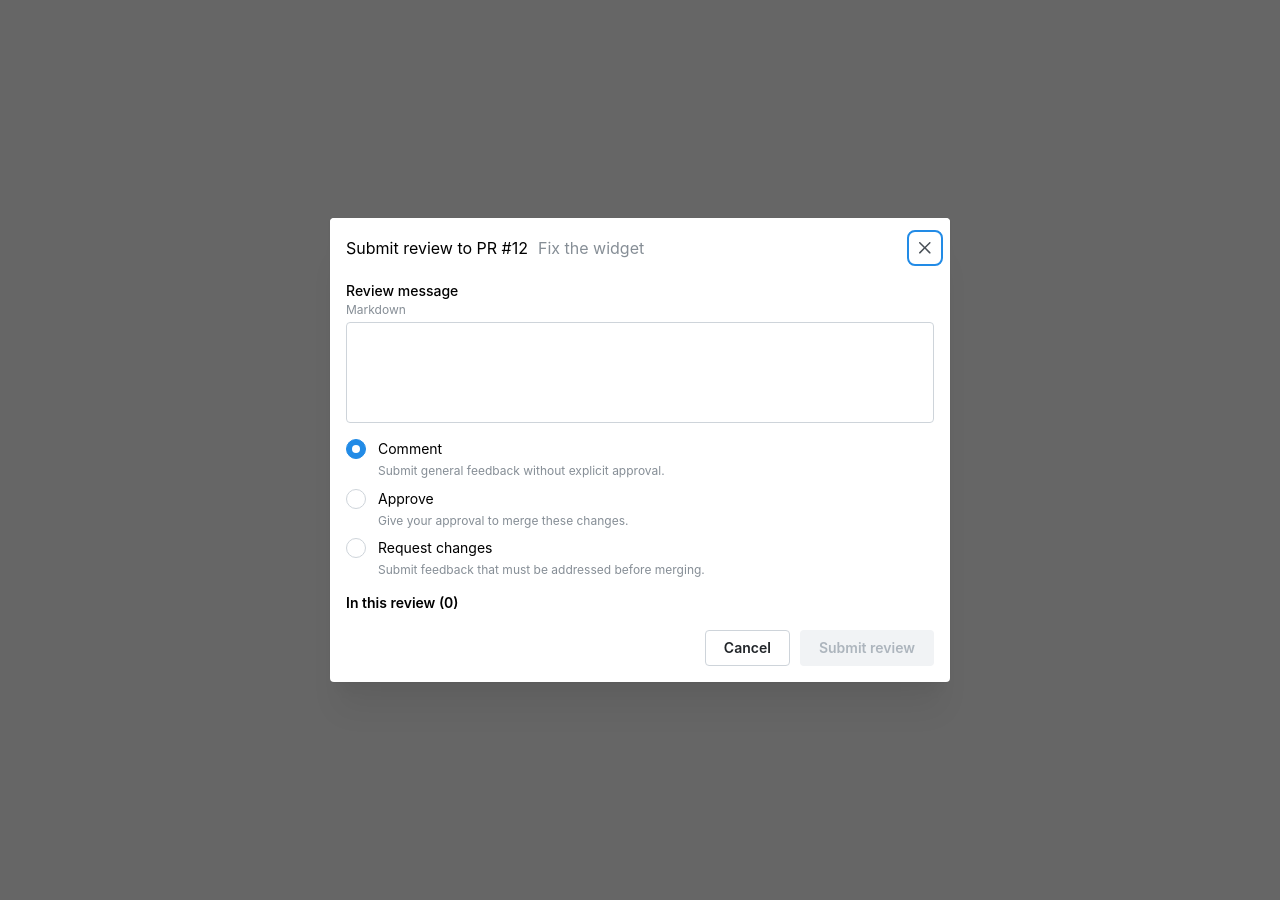
SubmitReviewModal › disables Submit for an empty Comment
Expected: the button "Submit review" is disabled, [800,630,934,666]
Type "LGTM" into the text box labelled "Review message".
click(640, 373); type("LGTM")  # box [346,322,934,423]
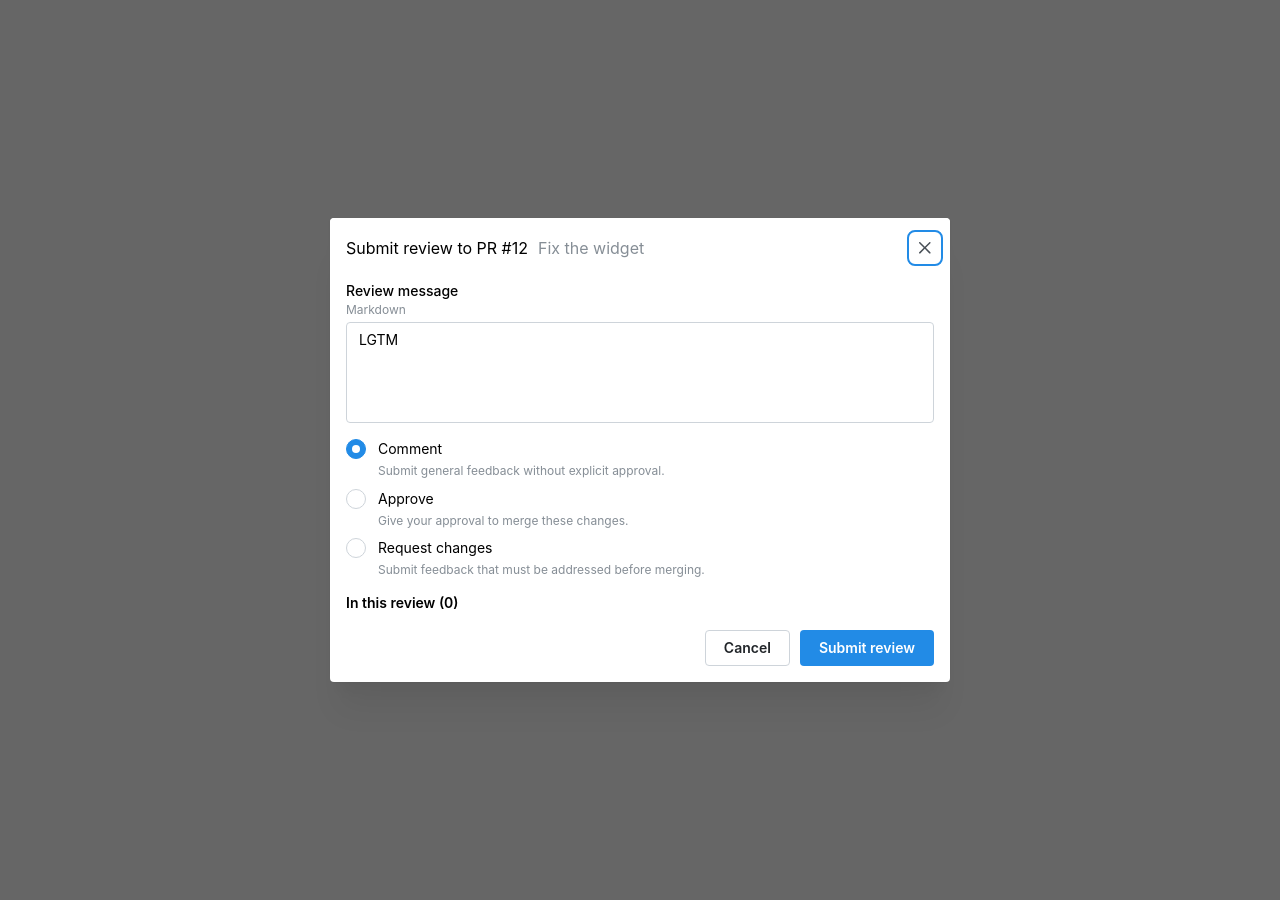
Now the button "Submit review" is enabled, box [800,630,934,666]
Clear the text box labelled "Review message" at [640, 373], box [346,322,934,423]
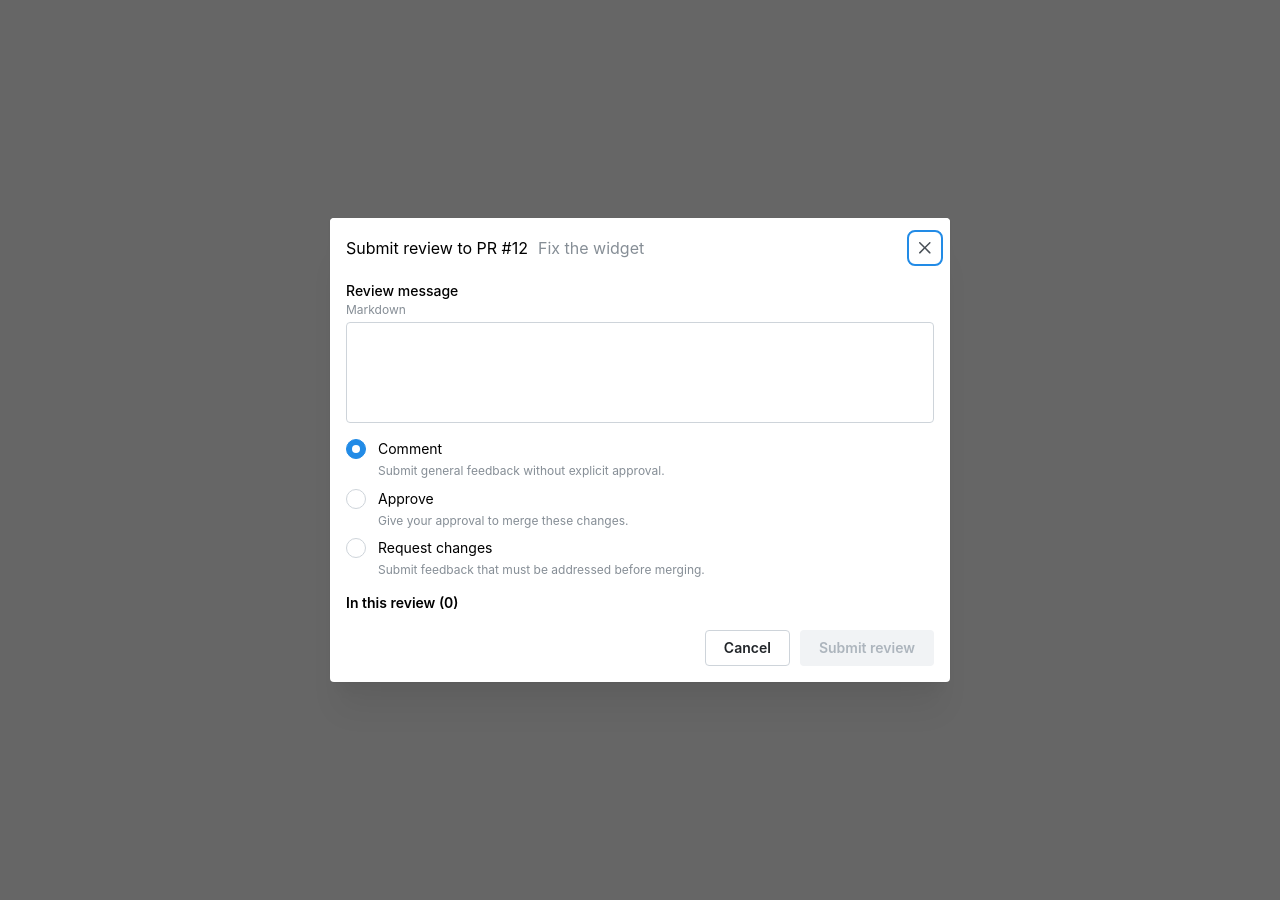
Click the radio button labelled "Approve".
click(356, 499)  # box [346,489,366,509]
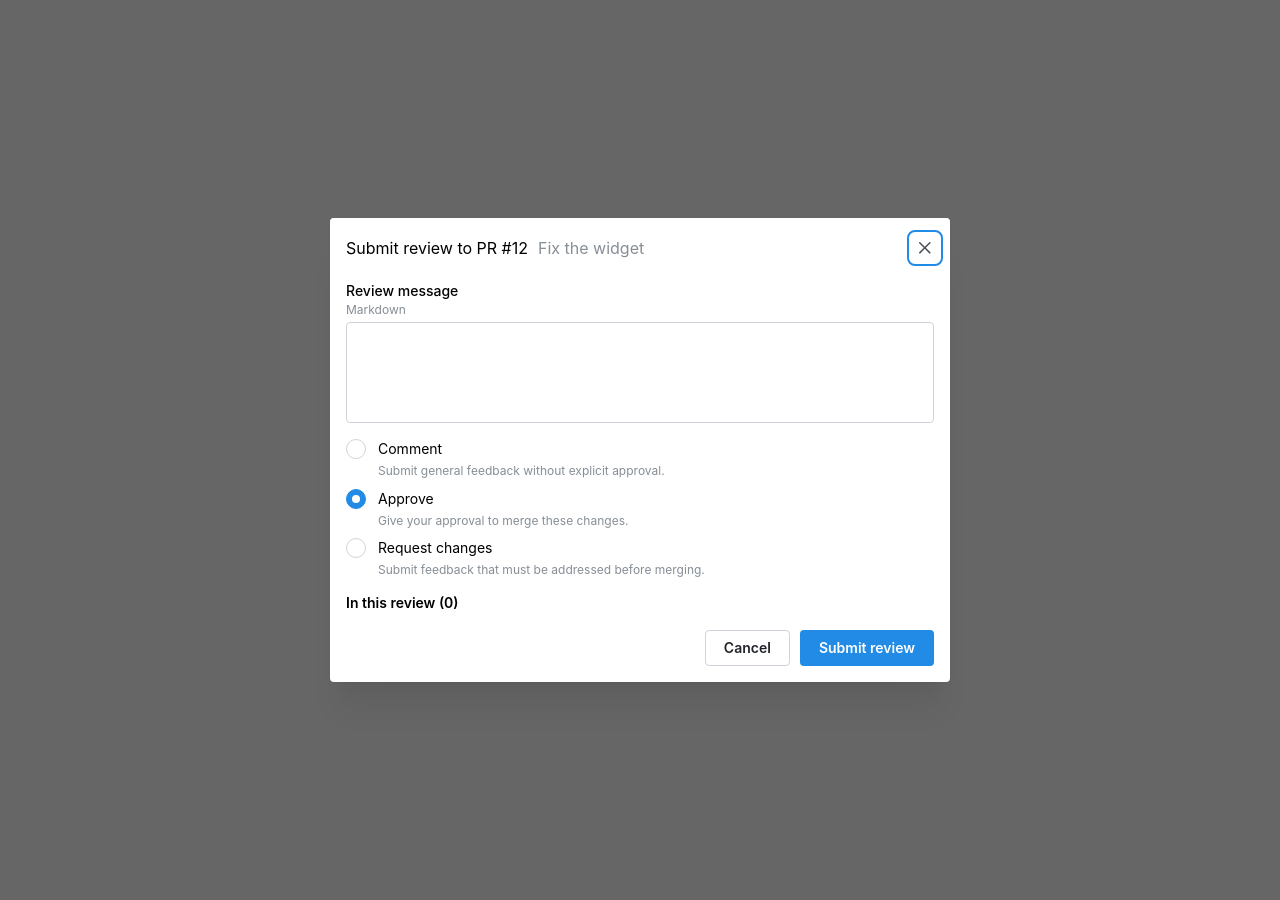
Now the button "Submit review" is enabled, box [800,630,934,666]
